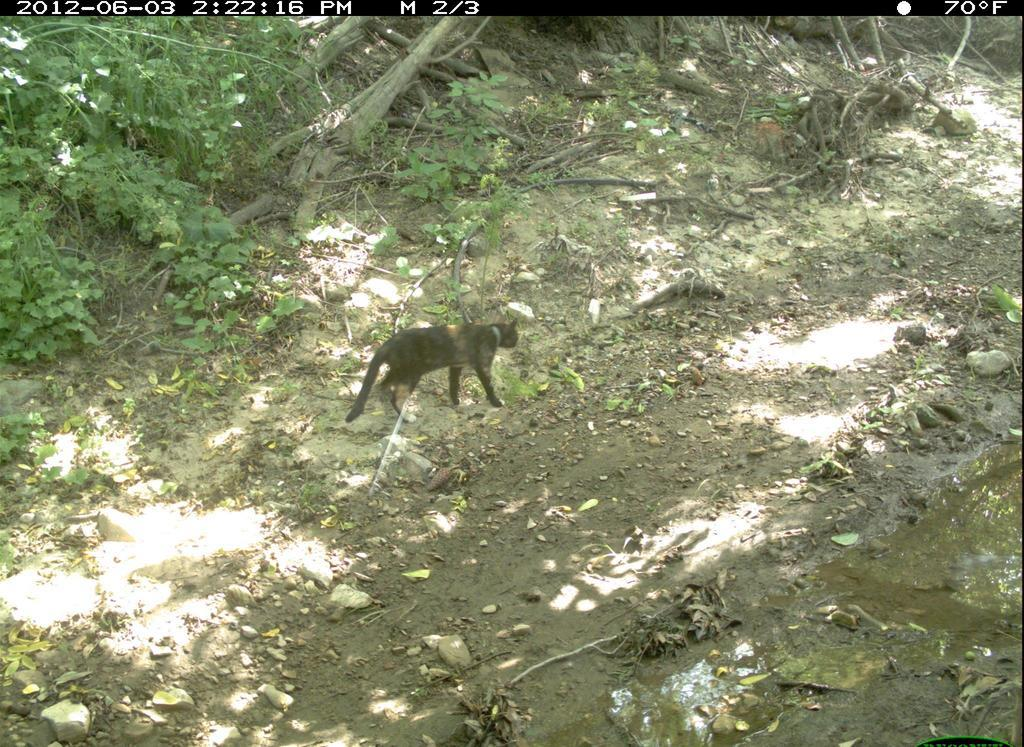cat: (337, 309, 527, 429)
